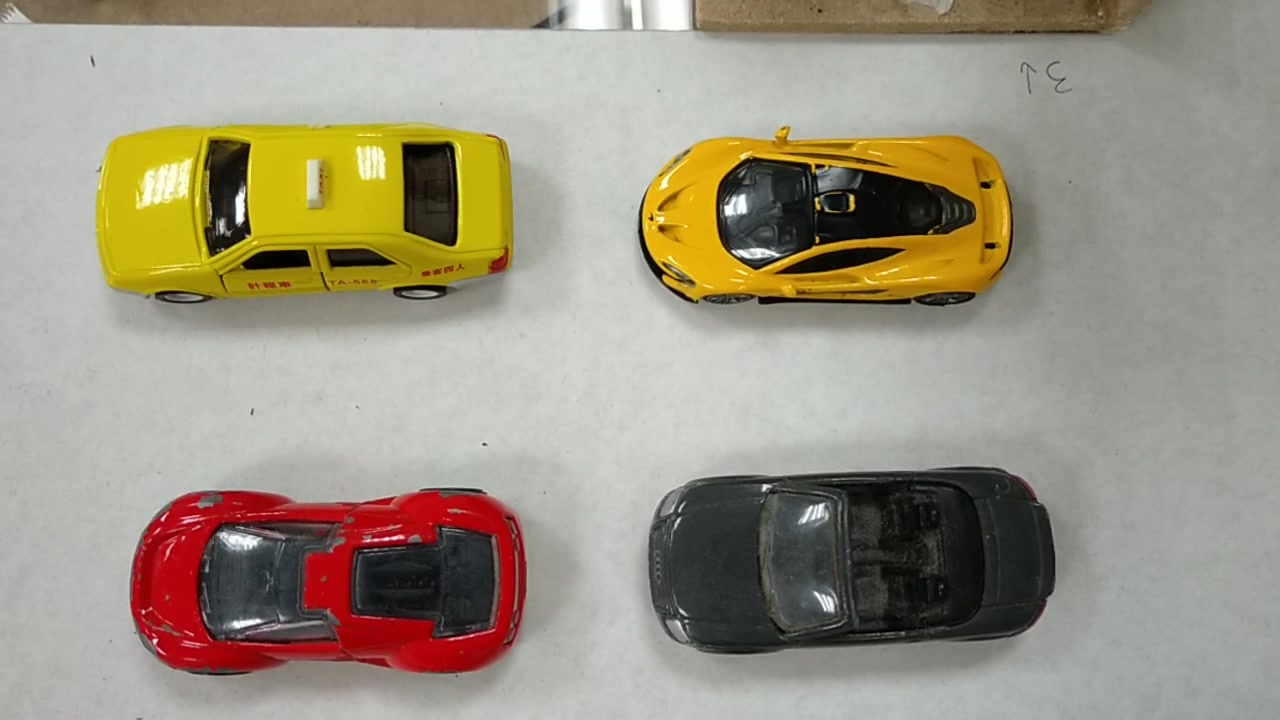car: (651, 475, 1057, 654), (96, 130, 512, 303), (639, 125, 1012, 315), (127, 498, 526, 674)
